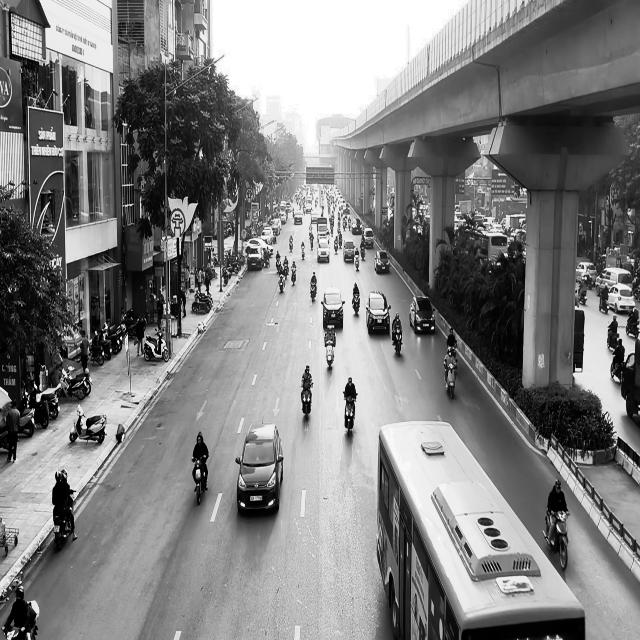bus: (376, 419, 585, 639)
car: (235, 420, 284, 514), (365, 289, 391, 334), (409, 295, 436, 334), (321, 286, 345, 329), (374, 249, 390, 274), (343, 240, 355, 261)
motorbike: (542, 507, 569, 571), (69, 403, 107, 444), (53, 490, 76, 550), (143, 328, 169, 362), (191, 455, 208, 505), (343, 392, 357, 434), (300, 383, 312, 419), (324, 334, 335, 368), (392, 326, 402, 355), (352, 292, 359, 314), (310, 280, 316, 302), (291, 265, 296, 285)
